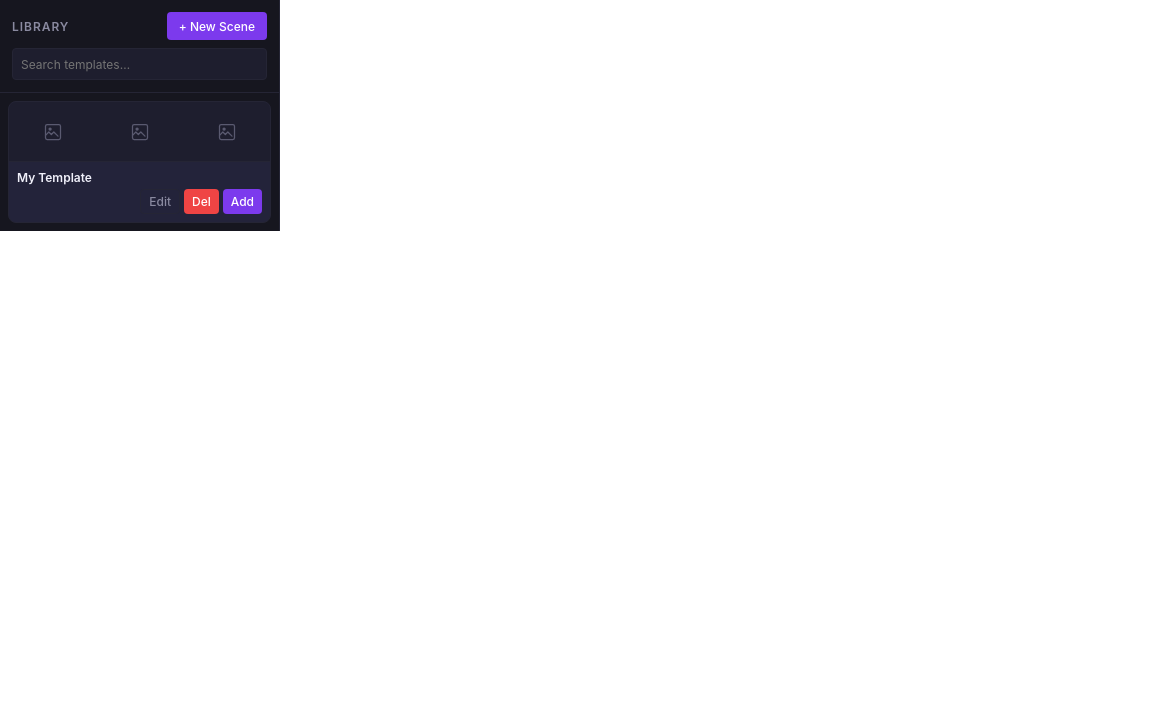
LibraryPanel › edit template › opens SceneModal with template values when Edit is clicked
Click the button with test id "edit-template-tpl-1": (160, 202) [140,189,180,214]
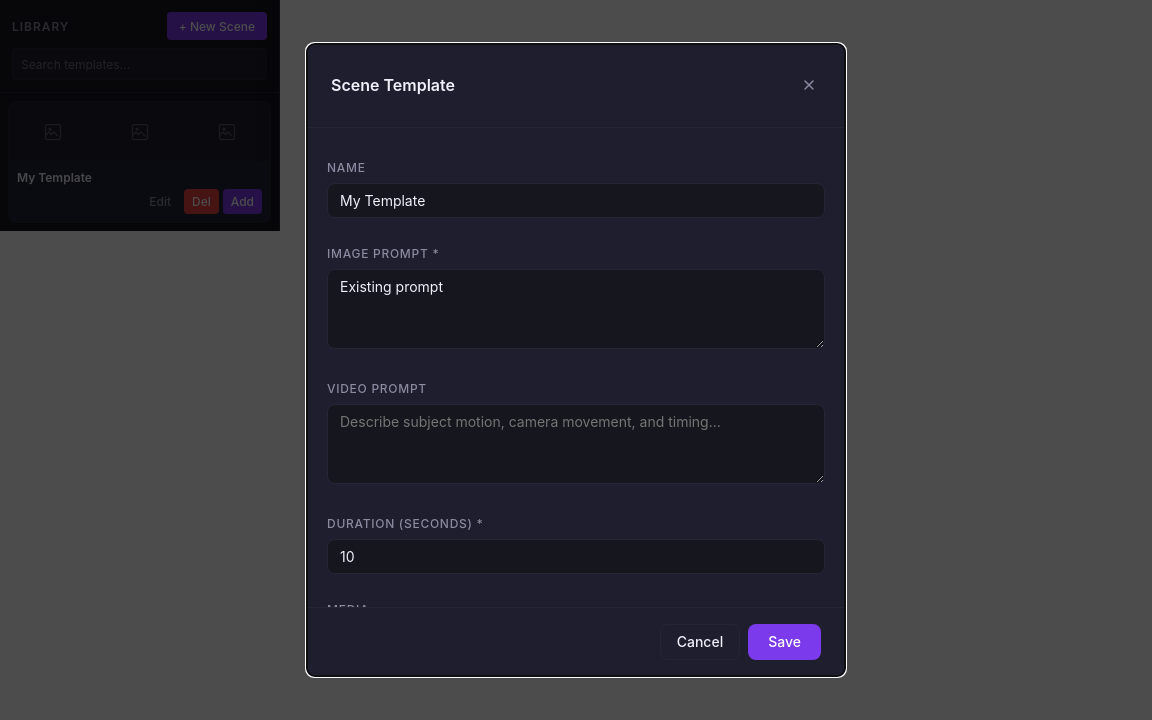
Check: the dialog with test id "scene-modal" is shown, box [306,43,846,677]
Check: the text box with test id "prompt-input" holds "Existing prompt", box [327,269,825,349]
